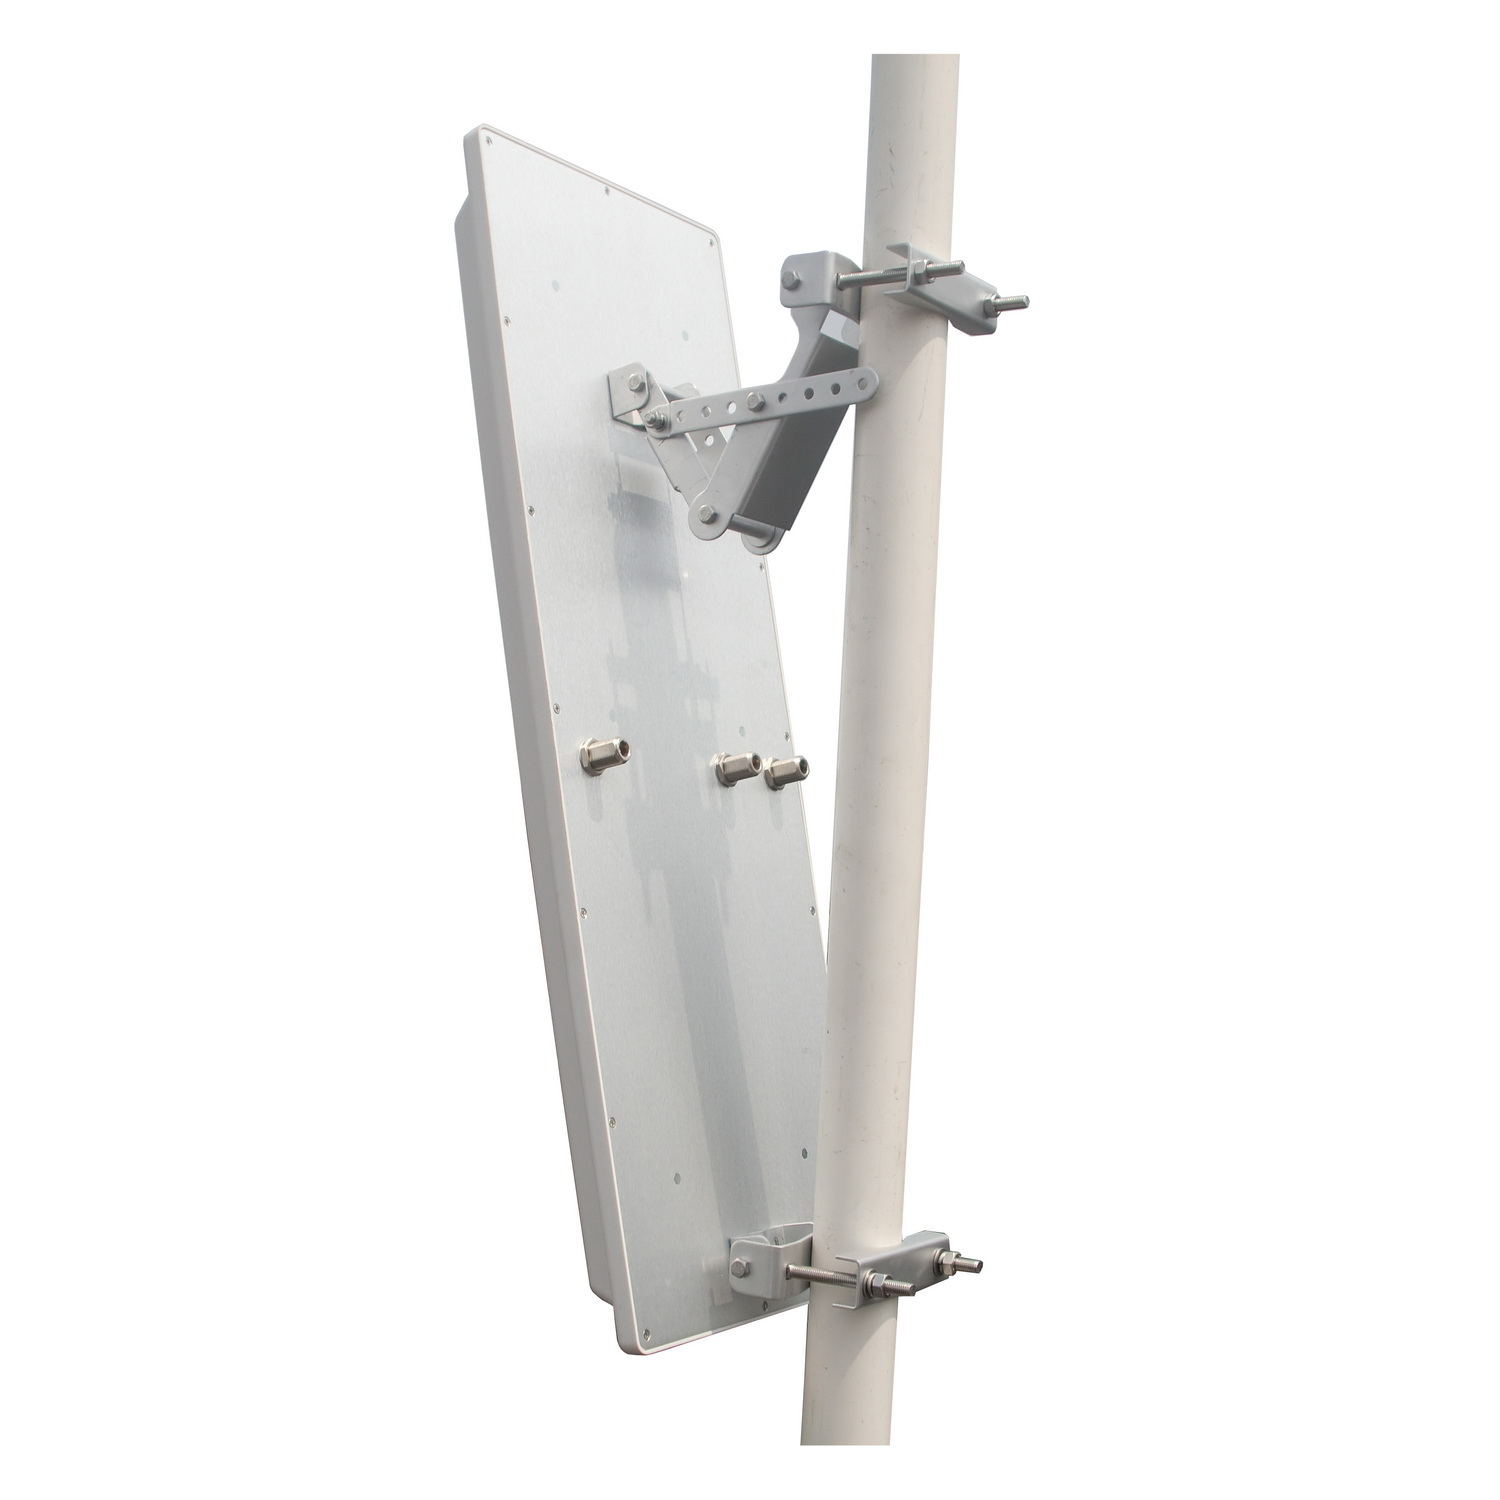sa: (370, 95, 922, 1378)
